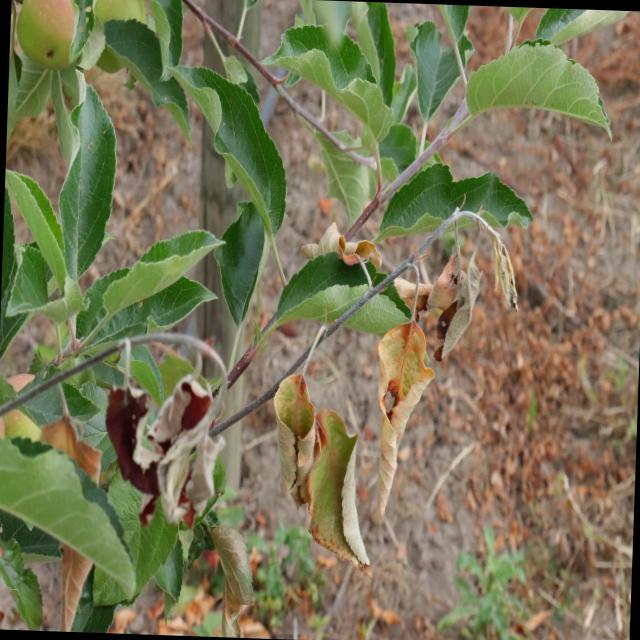-FireBlight-: (105, 338, 238, 525), (266, 344, 372, 564), (372, 250, 434, 534)
